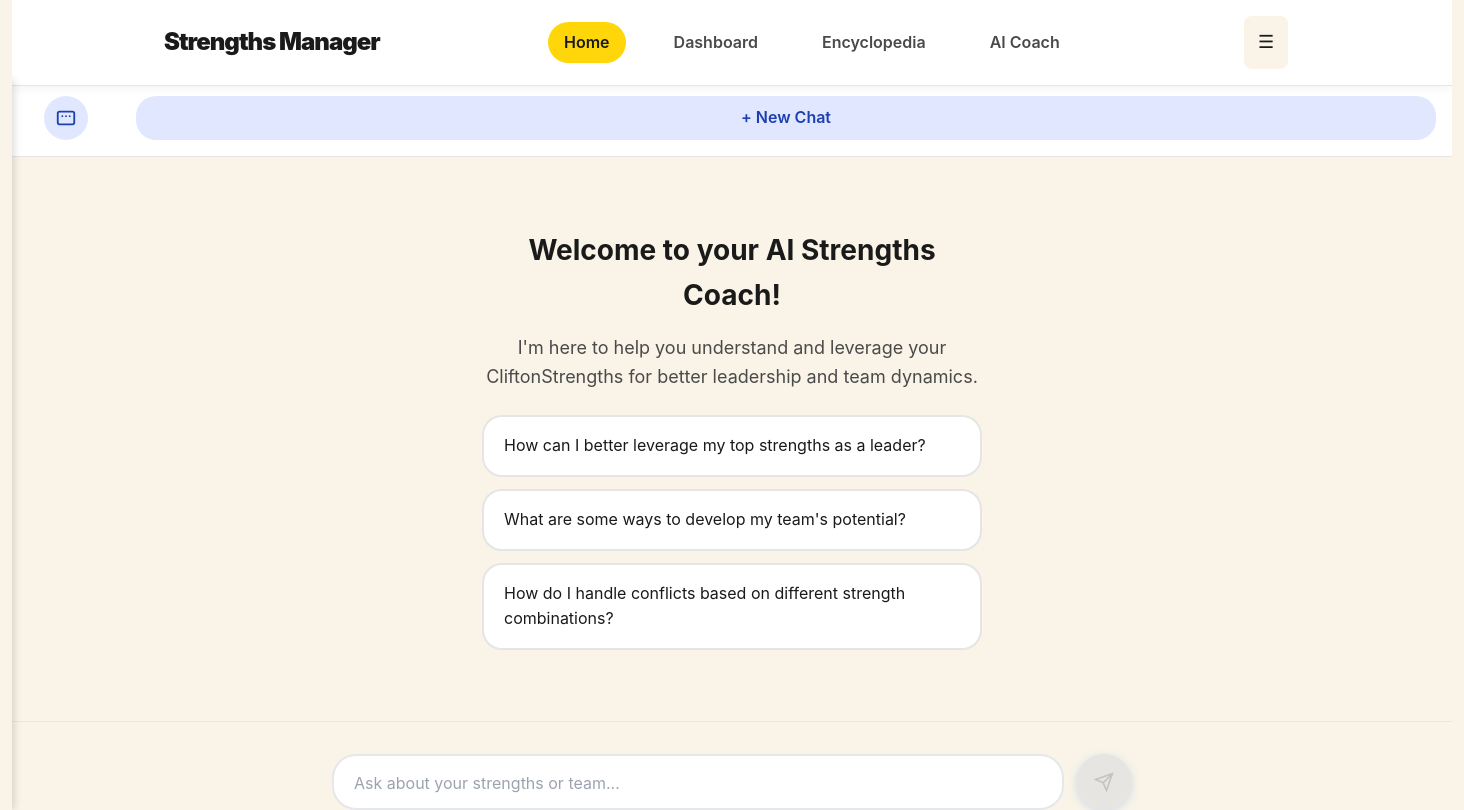
Test: ChatCoach › renders starter questions and handles click
Expected: the button "What are some ways to develop my team's potential?" is shown, [482, 489, 982, 551]
Expected: the button "How do I handle conflicts based on different strength combinations?" is shown, [482, 563, 982, 650]
Step 1. Click the button "How can I better leverage my top strengths as a leader?" → coordinates (732, 446), box [482, 415, 982, 477]
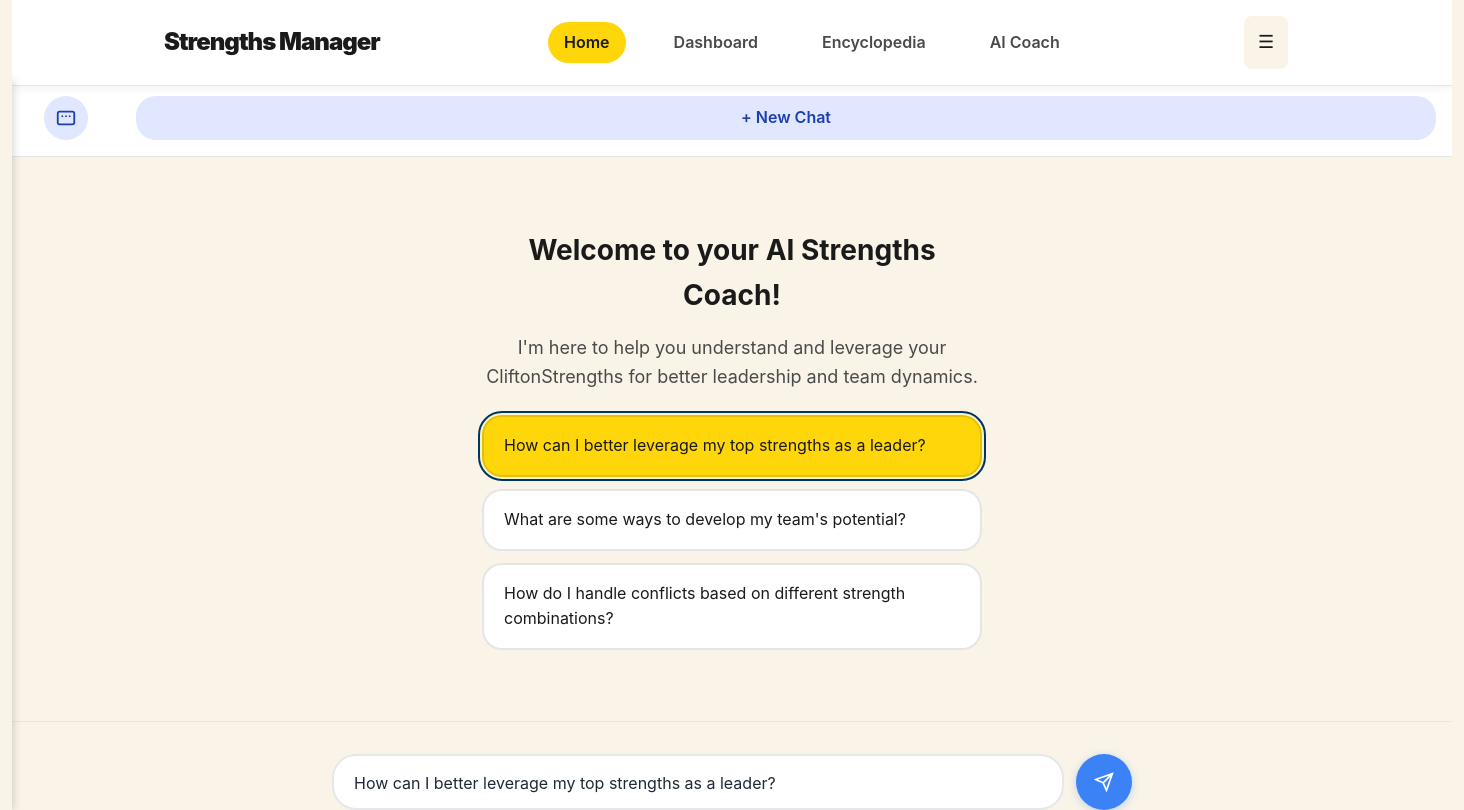
Step 2. Click the button named "send message" → coordinates (1104, 782), box [1076, 754, 1132, 809]
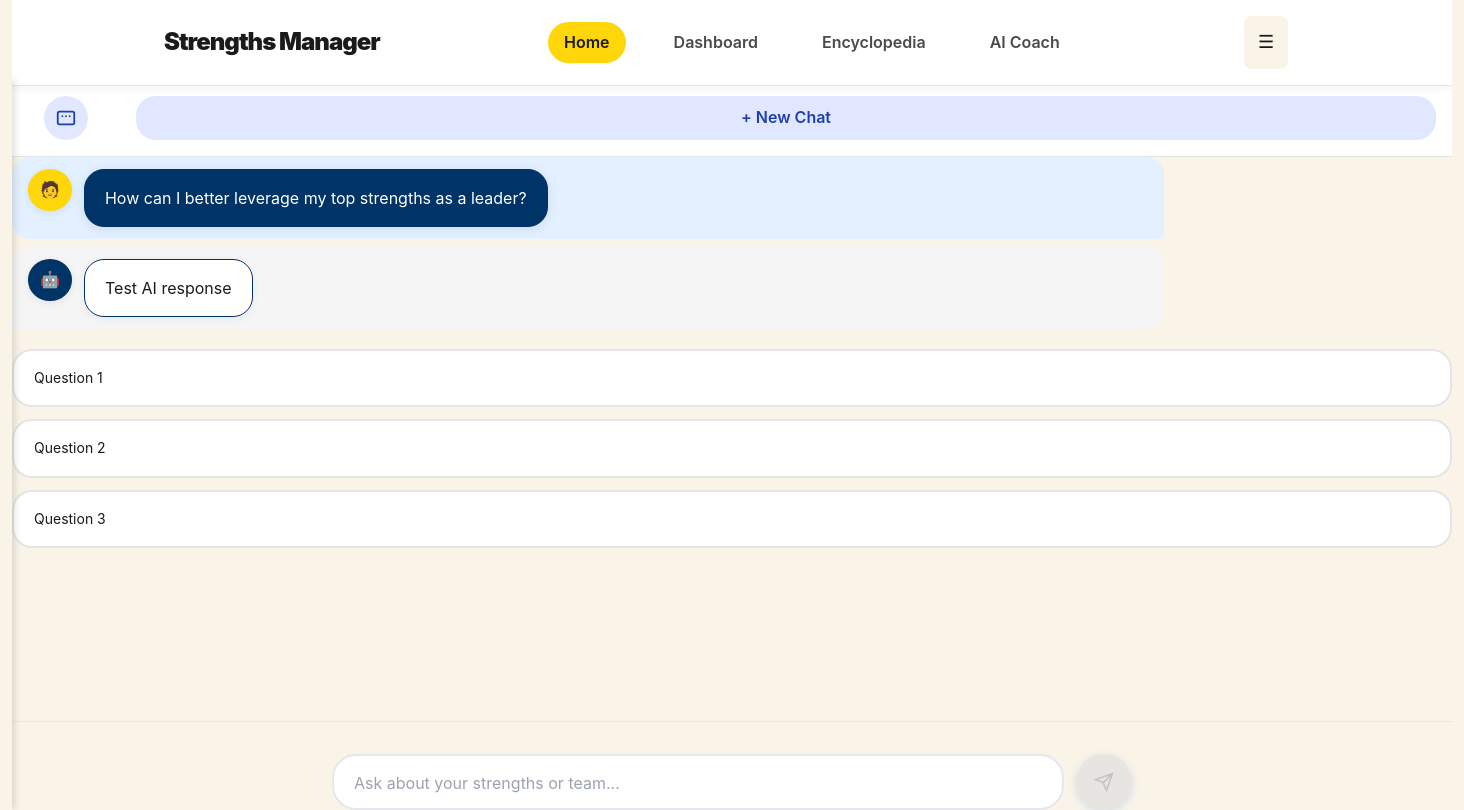
Now the text "Test AI response" is shown, box [105, 276, 232, 300]
